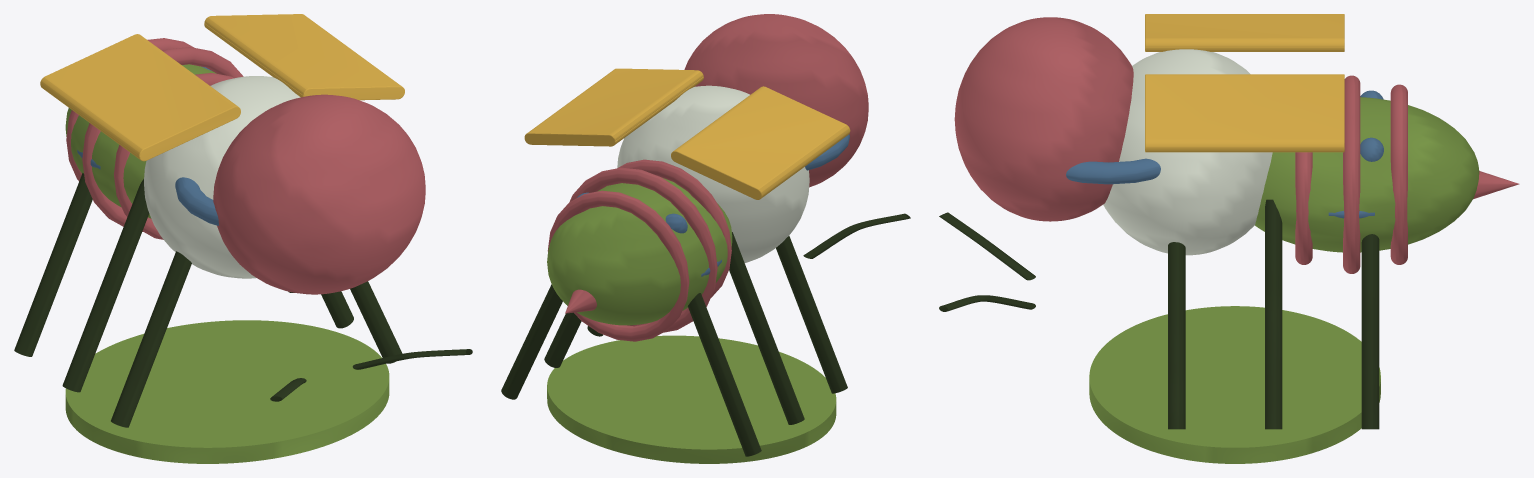
Rendered from 0016_昆虫图鉴_枯叶蝶.glb.
3 views of the same model, side by side, from view 1: azimuth 30°, elevation 25°; view 2: azimuth 150°, elevation 25°; view 3: azimuth 270°, elevation 25° (orthographic). The views are drawn at different scales.
Visible parts, largest first — view 1: card_0016; view 2: card_0016; view 3: card_0016.
Part boxes in pixels (box(x1,y1,x2,y2)): card_0016: box(14, 14, 472, 463); card_0016: box(501, 14, 910, 463); card_0016: box(939, 14, 1519, 463).
Bounding box in the file's own units: 0.8329 × 1 × 1.44.
